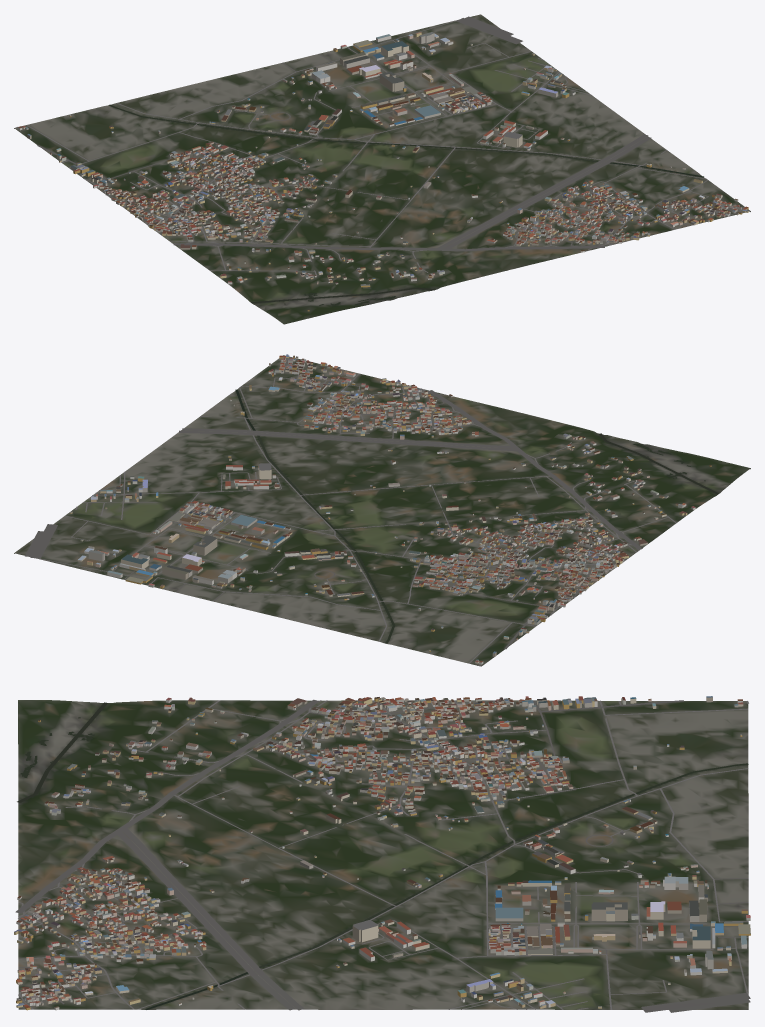
3 renders of one model, top to bottom at view 1: azimuth 30°, elevation 25°; view 2: azimuth 150°, elevation 25°; view 3: azimuth 270°, elevation 25°, orthographic. The views are drawn at different scales.
Parts seen in each view (by area): view 1: ground, buildings, roads, water; view 2: ground, buildings, roads, water; view 3: ground, buildings, roads, water.
Part boxes in pixels (bbox=[...]): ground: bbox=[14, 14, 750, 324]; buildings: bbox=[18, 32, 748, 311]; roads: bbox=[14, 16, 744, 275]; water: bbox=[108, 104, 703, 305]; ground: bbox=[14, 355, 750, 666]; buildings: bbox=[70, 354, 711, 664]; roads: bbox=[25, 359, 676, 666]; water: bbox=[235, 389, 719, 643]; ground: bbox=[18, 700, 748, 1009]; buildings: bbox=[14, 696, 750, 1010]; roads: bbox=[15, 699, 750, 1012]; water: bbox=[17, 702, 748, 1009].
Size of the model in its own units: 1422 by 32.83 by 1415.
